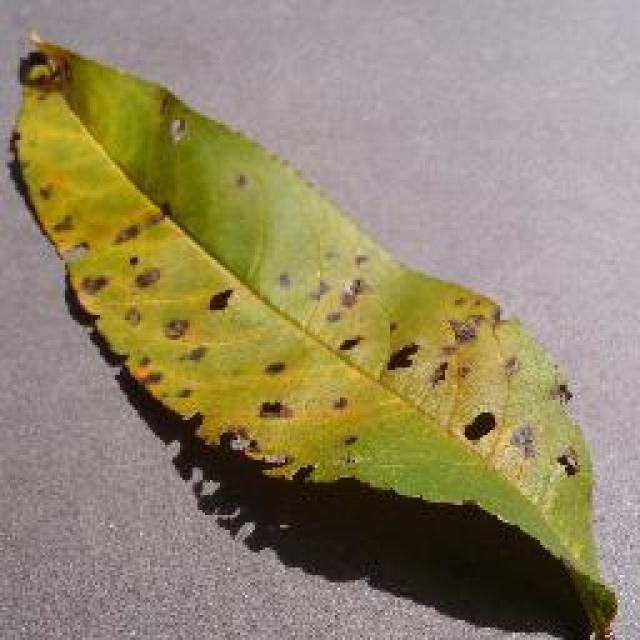Peach_Bacterial_Spot: (18, 117, 617, 460)
